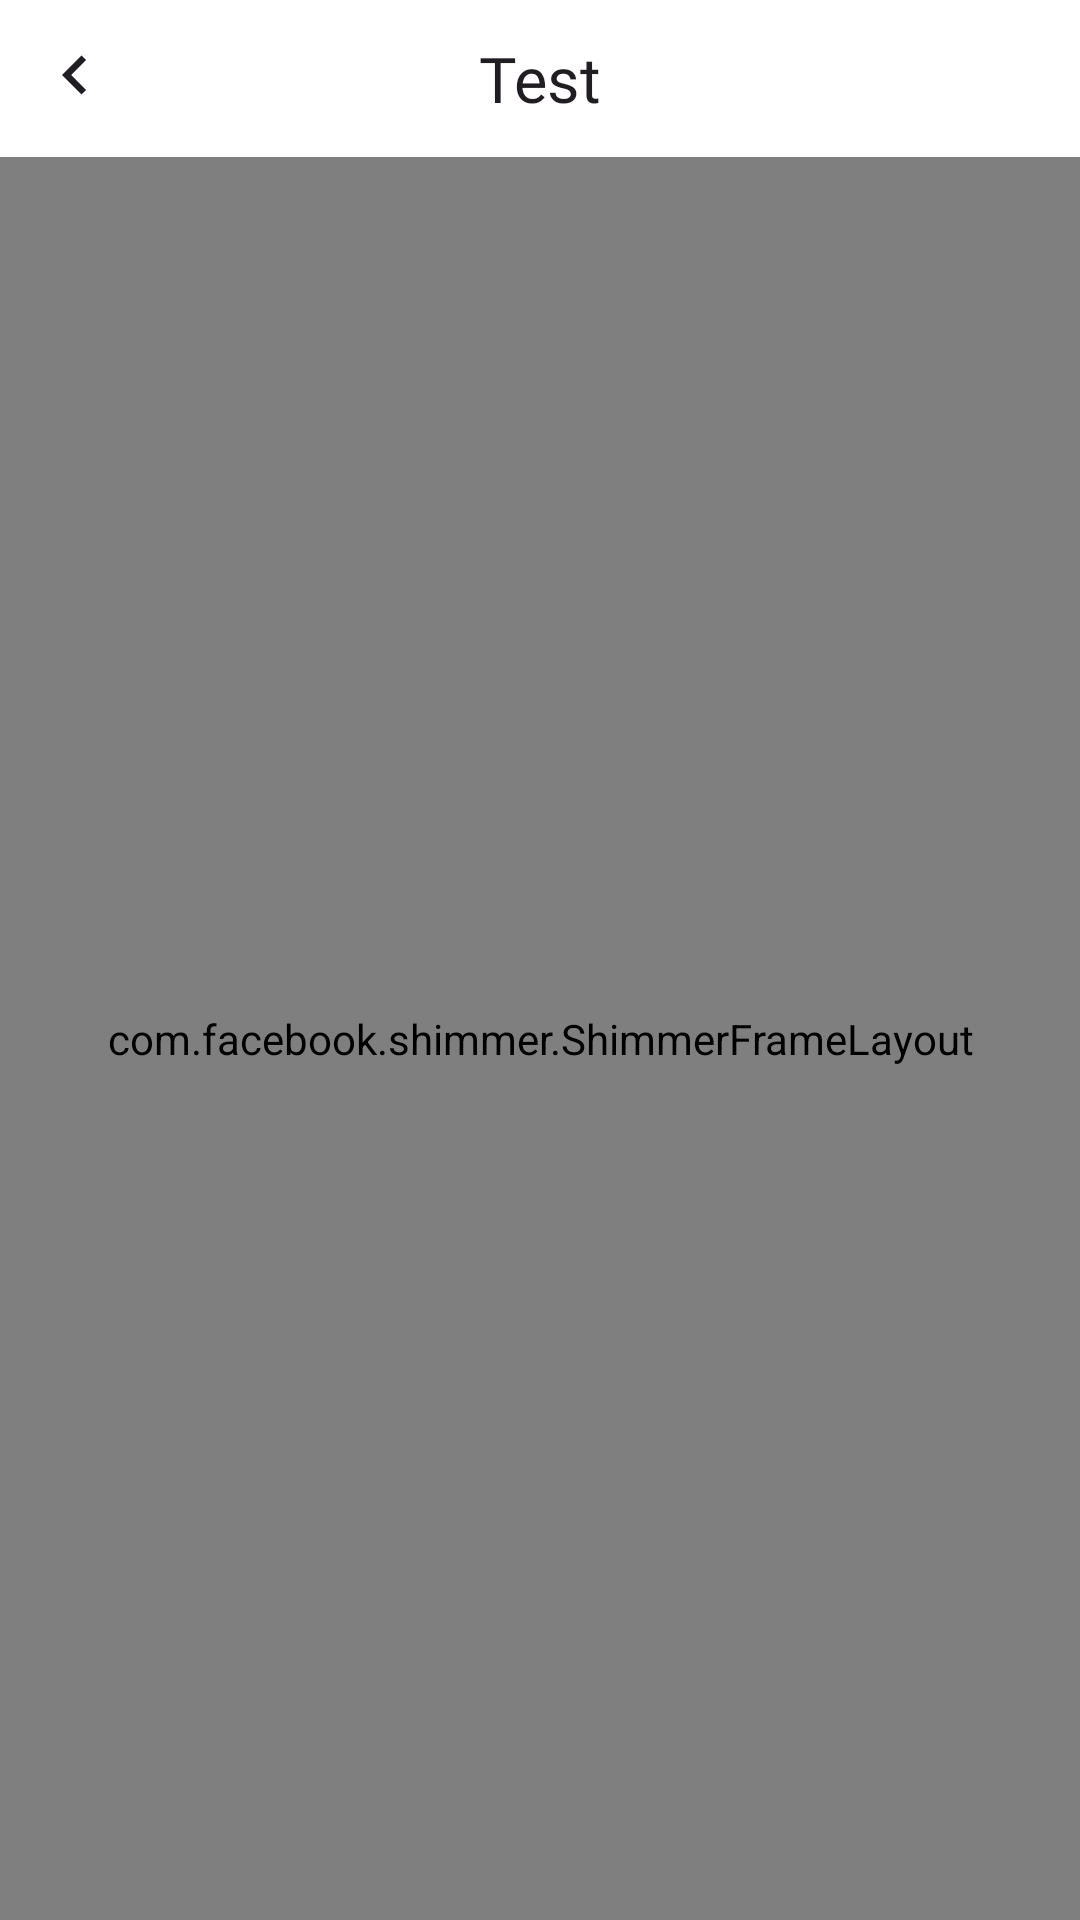

Where to tap for icons on this 1080 x 1920 app screen, as (x=x, y=y):
back: (x=74, y=75)
